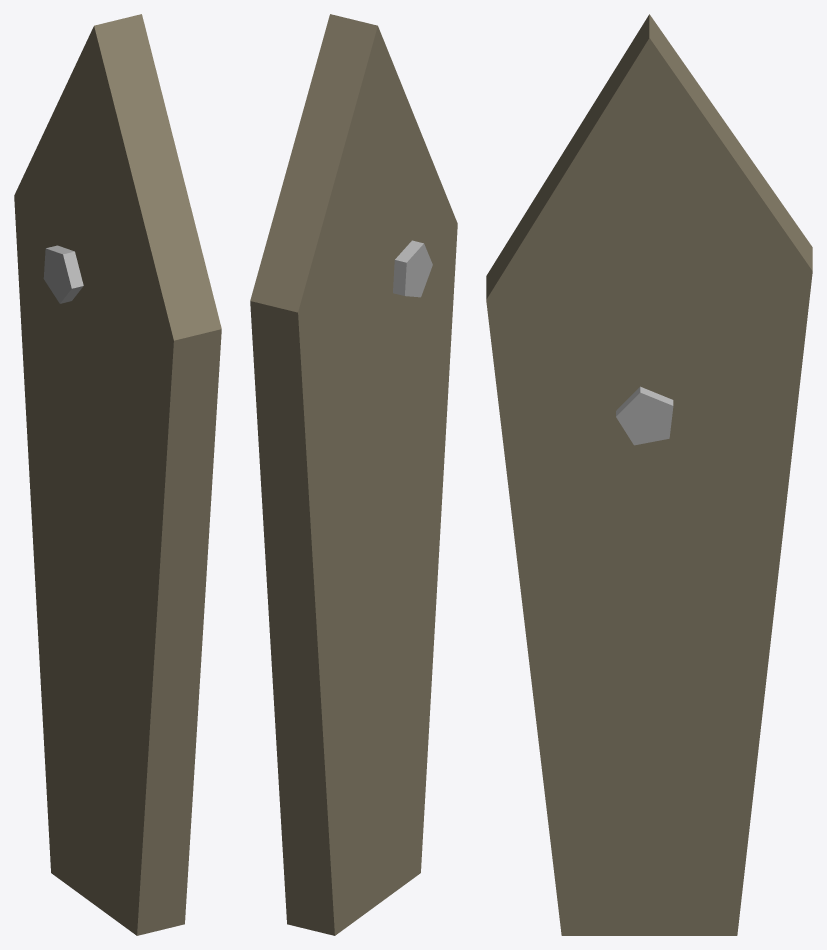
The model's file is Fence_Single.fbx.
The picture shows the model from 3 angles, left to right: view 1: azimuth 30°, elevation 25°; view 2: azimuth 150°, elevation 25°; view 3: azimuth 270°, elevation 25°; orthographic projection. The views are drawn at different scales.
Visible parts, largest first — view 1: Fence_single; view 2: Fence_single; view 3: Fence_single.
Part boxes in pixels (bbox=[...]): Fence_single: bbox=[14, 14, 221, 935]; Fence_single: bbox=[250, 14, 457, 935]; Fence_single: bbox=[486, 14, 812, 935].
Size of the model in its own units: 0.5228 by 3.51 by 1.16.
